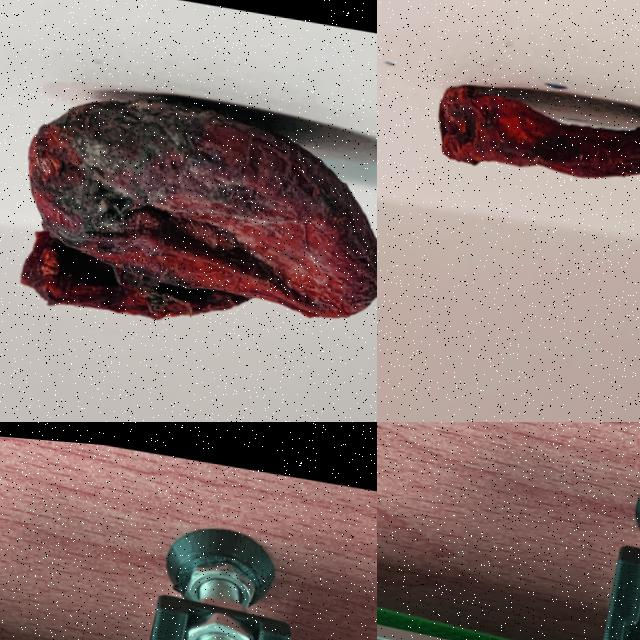Agglomerated_cocoabeans: (0, 24, 376, 380)
Flat_cocoabeans: (377, 4, 639, 242)
